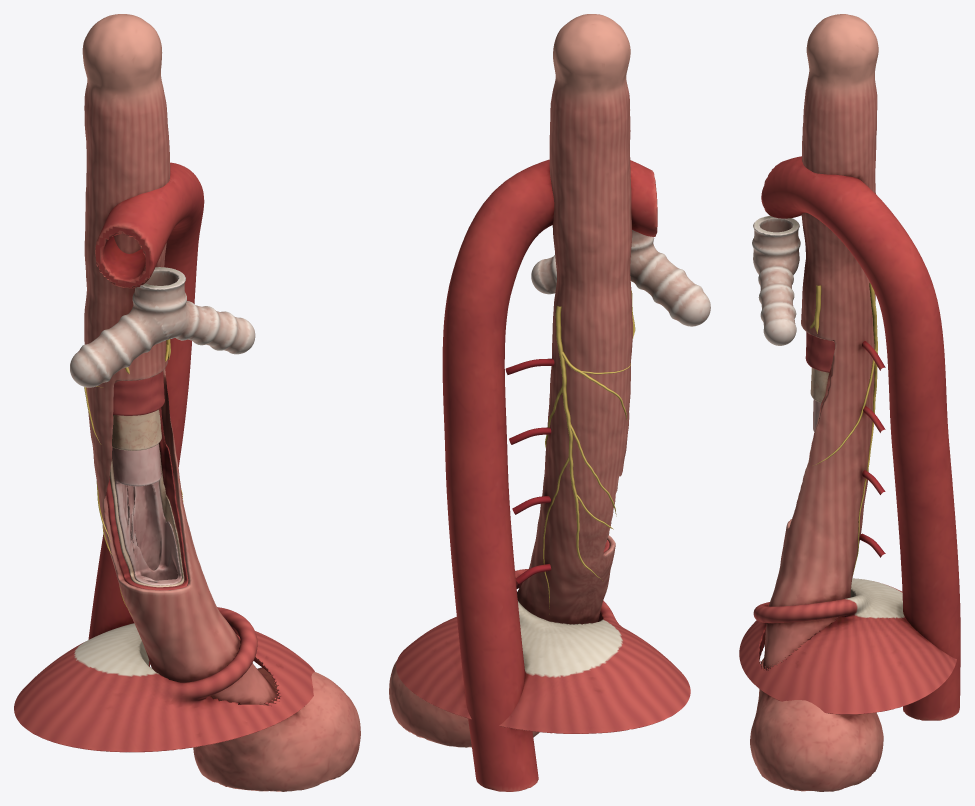
The model's file is esophagus.8ac1ee82.glb.
The picture shows the model from 3 angles, left to right: view 1: azimuth 30°, elevation 25°; view 2: azimuth 150°, elevation 25°; view 3: azimuth 270°, elevation 25°; orthographic projection. The views are drawn at different scales.
Parts seen in each view (by area): view 1: Longitudinal muscular layer, Diaphragm, Aorta, Gastric cardia, Tracheal bifurcation, Mucosa, Circular muscular layer, Submucosa; view 2: Longitudinal muscular layer, Aorta, Diaphragm, Tracheal bifurcation, Gastric cardia, Vagal plexus, Oesophageal arteries; view 3: Longitudinal muscular layer, Aorta, Diaphragm, Gastric cardia, Tracheal bifurcation, Vagal plexus, Circular muscular layer, Oesophageal arteries, Submucosa.
Part boxes in pixels (x1,y1,x2,y2): Longitudinal muscular layer: [82, 14, 277, 705]; Diaphragm: [14, 607, 314, 752]; Aorta: [88, 162, 204, 666]; Gastric cardia: [193, 667, 360, 791]; Tracheal bifurcation: [70, 267, 255, 387]; Mucosa: [112, 444, 181, 585]; Circular muscular layer: [106, 371, 188, 590]; Submucosa: [109, 409, 184, 587]; Longitudinal muscular layer: [517, 14, 632, 624]; Aorta: [442, 159, 657, 791]; Diaphragm: [396, 569, 690, 733]; Tracheal bifurcation: [531, 230, 710, 326]; Gastric cardia: [389, 661, 539, 747]; Vagal plexus: [543, 290, 635, 614]; Oesophageal arteries: [505, 358, 554, 584]; Longitudinal muscular layer: [763, 14, 878, 670]; Aorta: [761, 156, 960, 720]; Diaphragm: [739, 578, 956, 714]; Gastric cardia: [750, 658, 883, 791]; Tracheal bifurcation: [752, 216, 800, 345]; Vagal plexus: [810, 283, 877, 577]; Circular muscular layer: [805, 332, 834, 372]; Oesophageal arteries: [860, 341, 885, 557]; Submucosa: [810, 368, 829, 402].
Size of the model in its own units: 1.72 by 4.1 by 1.2.
